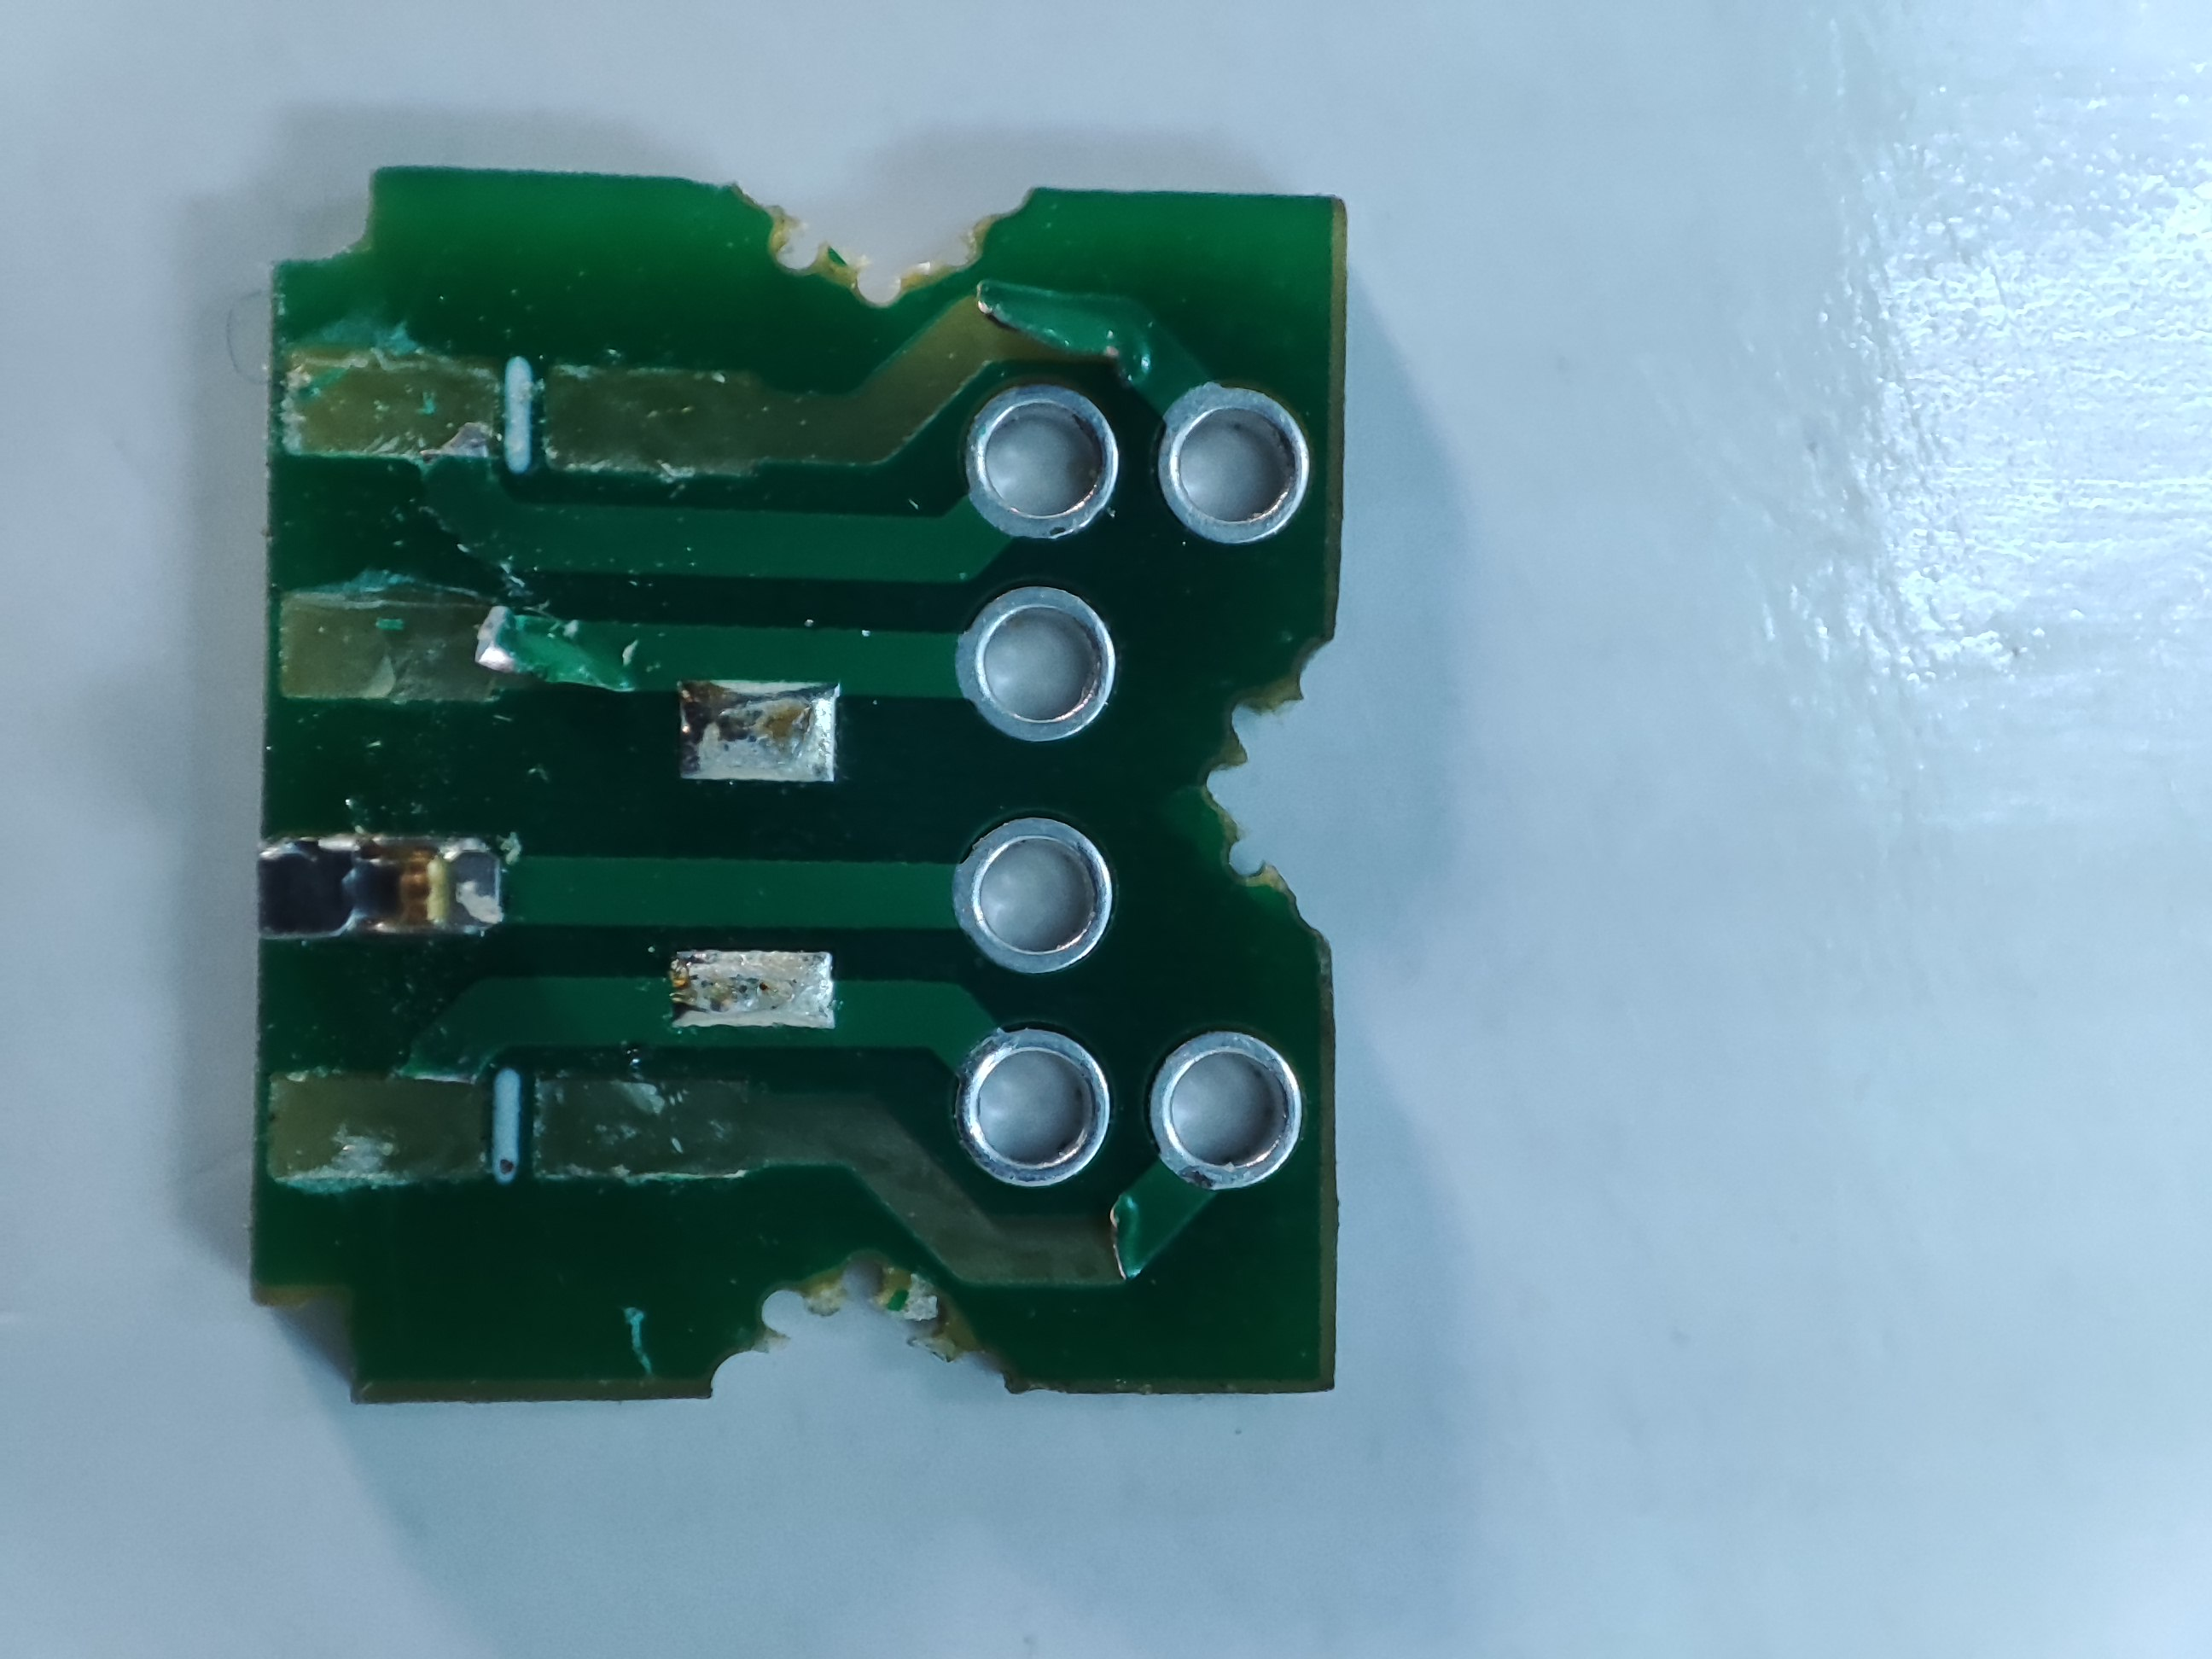PCB-MODEL-0: (221, 124, 1426, 1457)
defected-spring_finger: (251, 1053, 545, 1225), (277, 329, 554, 490), (268, 575, 538, 727)
normal-spring_finger: (237, 817, 538, 953)
normal-through: (1155, 364, 1343, 552), (939, 803, 1132, 978), (1144, 1025, 1331, 1202), (946, 582, 1143, 746), (941, 1018, 1122, 1195), (954, 368, 1132, 545)
